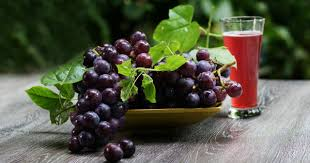Black grapes: (57, 47, 133, 163)
Red Grapes: (138, 52, 247, 108)
